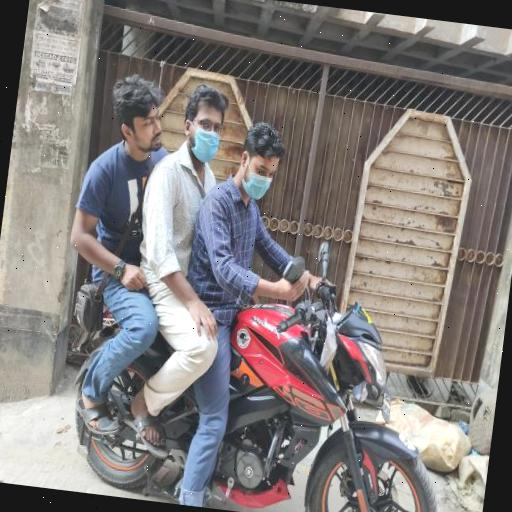no helmet: (202, 106, 356, 282)
triple riding: (17, 45, 499, 512)
